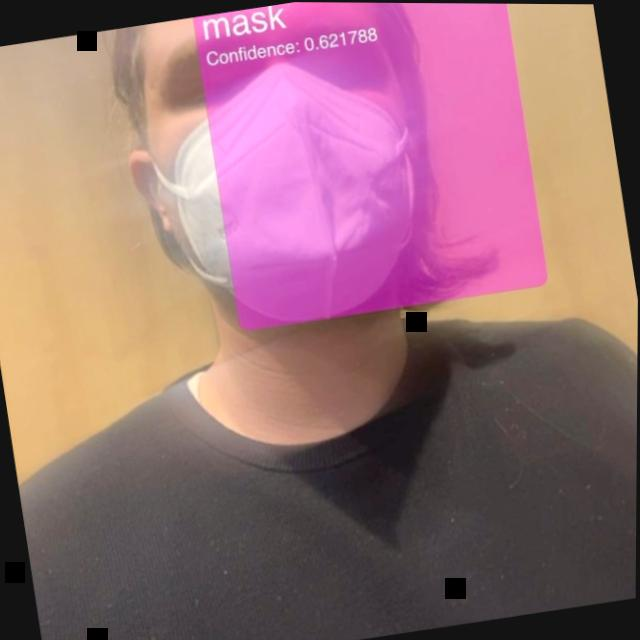Mask: (103, 1, 547, 413)
